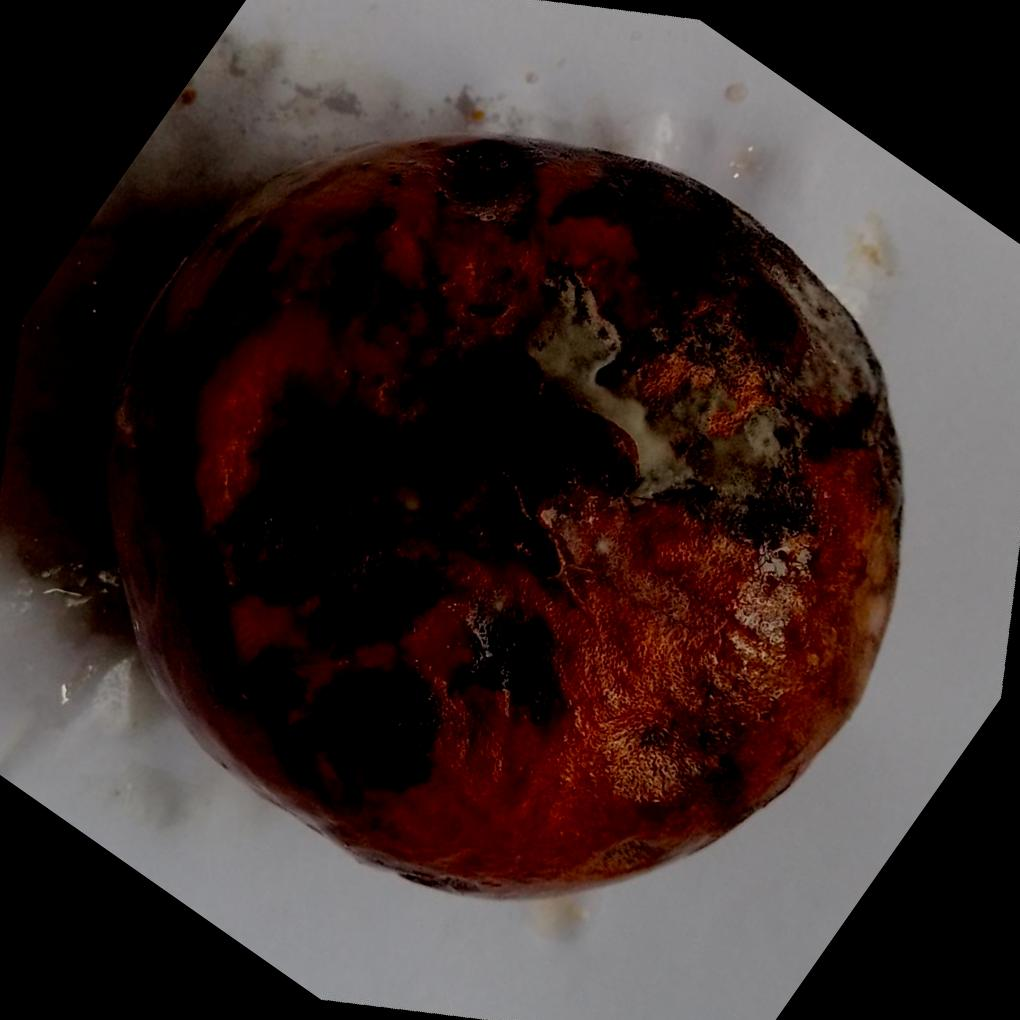FreshOrange: (95, 132, 903, 899)
